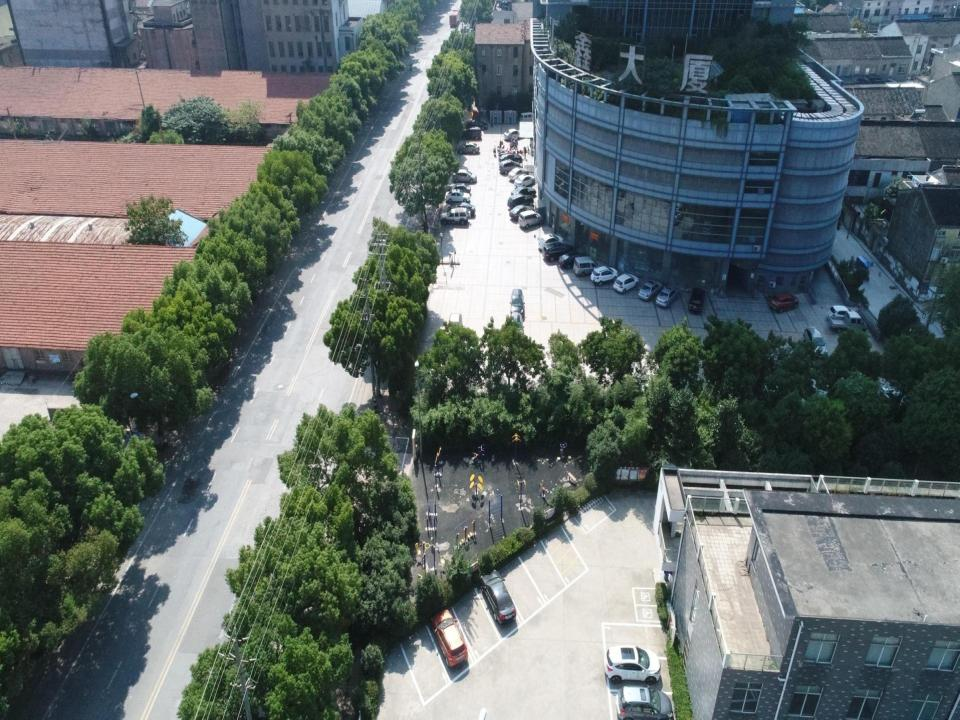bus: (450, 5, 460, 27)
car: (604, 644, 661, 686), (430, 608, 468, 669), (480, 569, 516, 625), (615, 685, 673, 719), (802, 326, 829, 359), (768, 291, 799, 313), (542, 242, 576, 262), (637, 279, 663, 301), (591, 265, 618, 286), (612, 274, 640, 294), (828, 304, 858, 322), (536, 234, 564, 253), (558, 253, 590, 269), (440, 207, 469, 224), (509, 288, 526, 316), (688, 286, 706, 312), (509, 310, 524, 341), (656, 286, 678, 307), (448, 311, 463, 340), (508, 204, 535, 220), (507, 193, 534, 209), (447, 203, 476, 216), (511, 185, 536, 200), (452, 169, 477, 184), (508, 166, 530, 182), (444, 189, 471, 202), (498, 152, 522, 166), (498, 159, 520, 174), (514, 174, 535, 189), (456, 142, 480, 154), (464, 120, 488, 132), (447, 183, 470, 194), (503, 128, 522, 140)
truck: (828, 311, 867, 333)
van: (573, 256, 602, 278), (518, 211, 543, 230), (461, 126, 482, 140)
